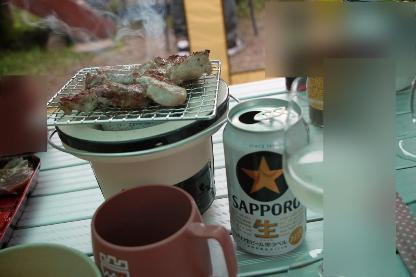Can: (221, 97, 309, 257)
